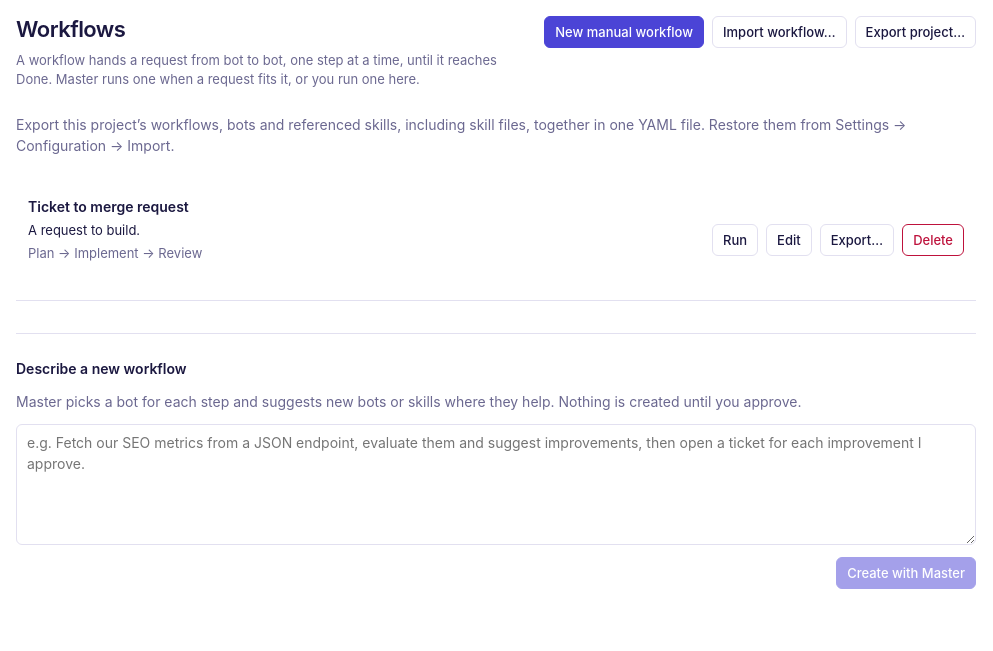
it: the Workflows page › exports the selected workflow with a safe filename and reports the dependency counts
The image size is (993, 651).
Click the button "Export…".
click(857, 240)  # box x1=820 y1=224 x2=894 y2=256
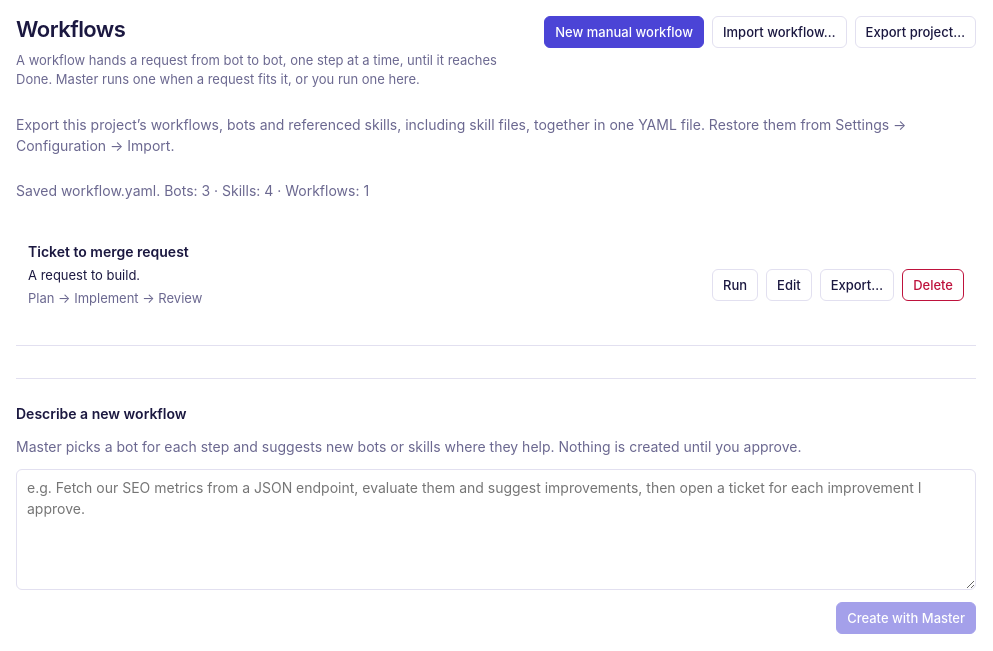
expect the message "Saved workflow.yaml. Bots: 3 · Skills: 4 · Workflows: 1" is shown: met, box x1=16 y1=182 x2=369 y2=199
